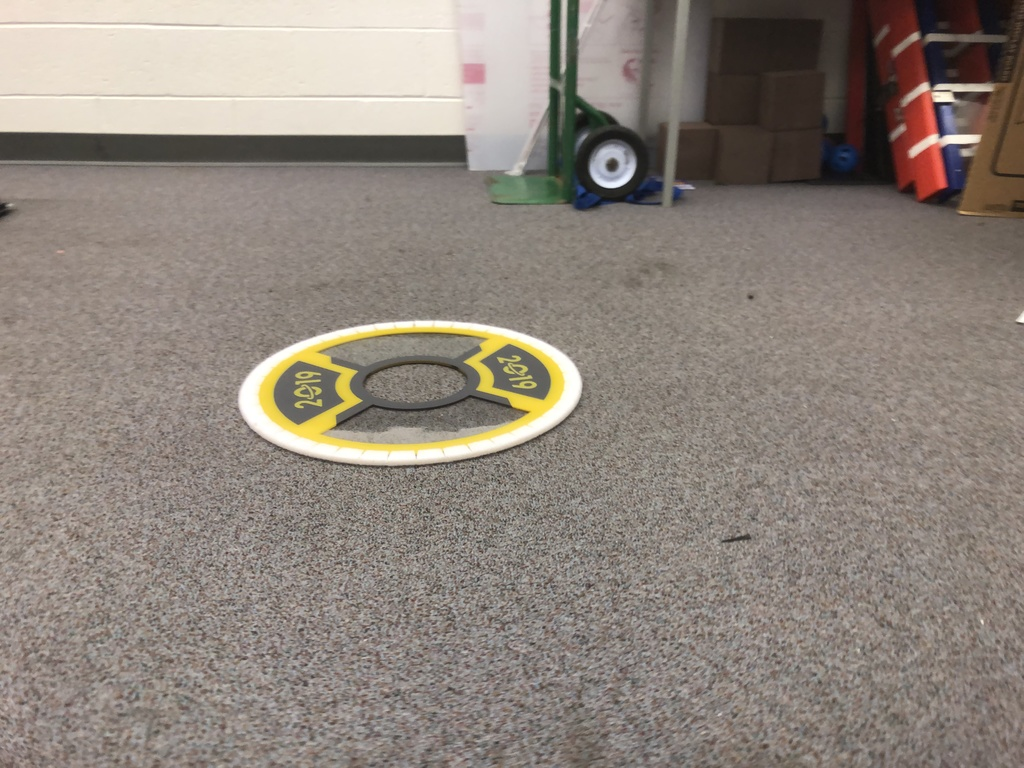hatch_panel: (228, 309, 613, 477)
